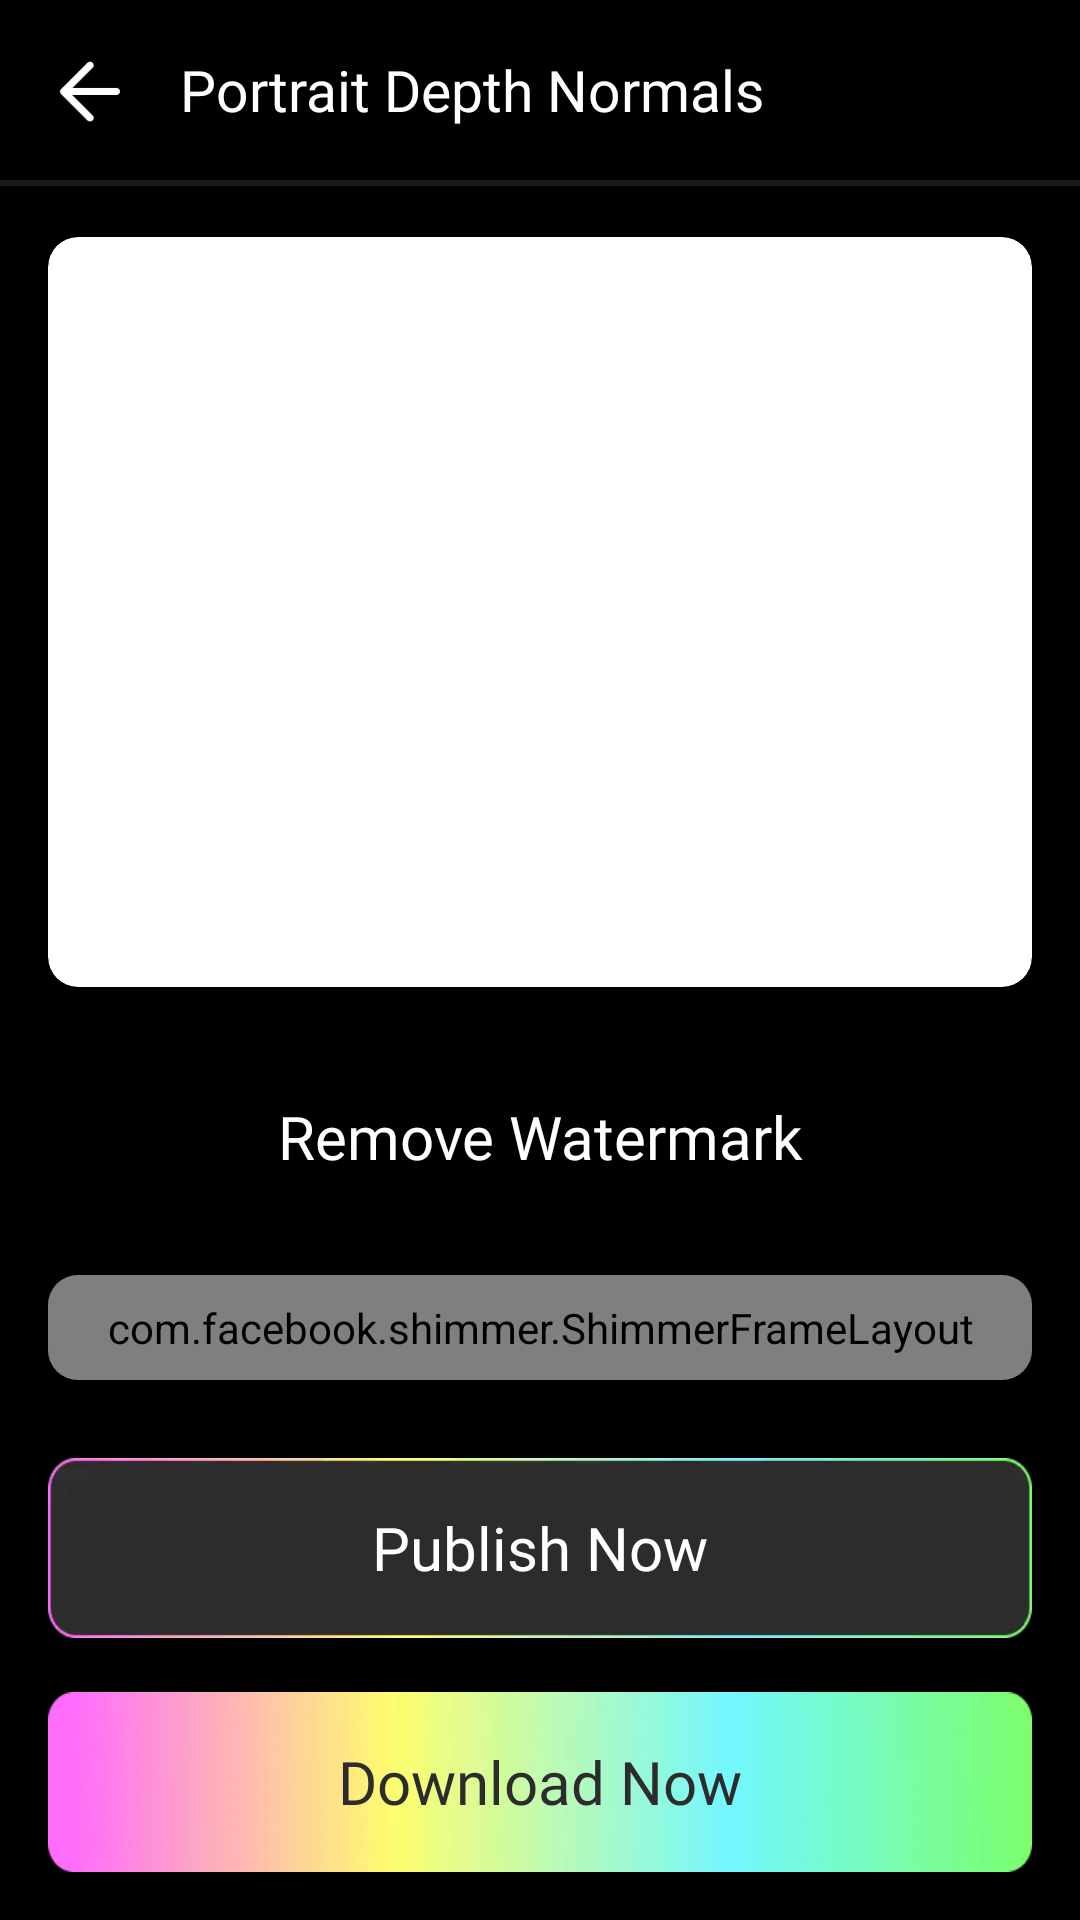

Named icons in this screenshot (1080×1920) and their bounding boxes, [x1, y1, x2, y2]:
back: [60, 61, 120, 122]
